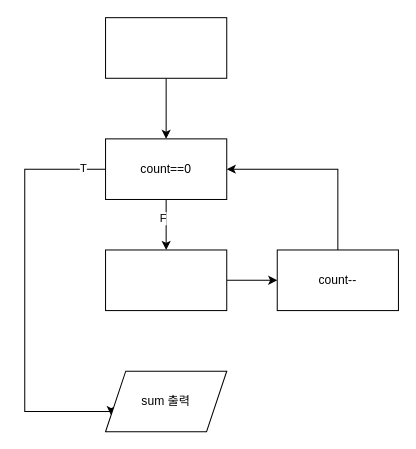
This 416x449 diagram has some shape labels left out. Here are the shapes that lost their labels. From the top down, the centre of each, then its label:
At point 166,47: "count=10; sum=0".
At point 166,280: "N입력 sum+=N".
